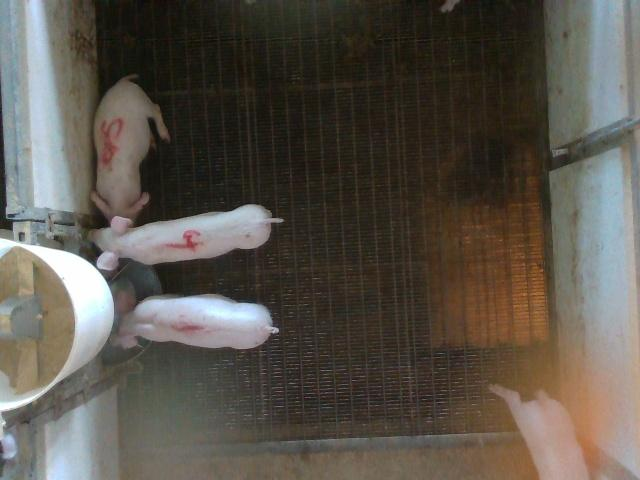pig-1: (110, 290, 279, 349)
pig-4: (89, 204, 282, 271)
pig-5: (92, 75, 170, 220)
